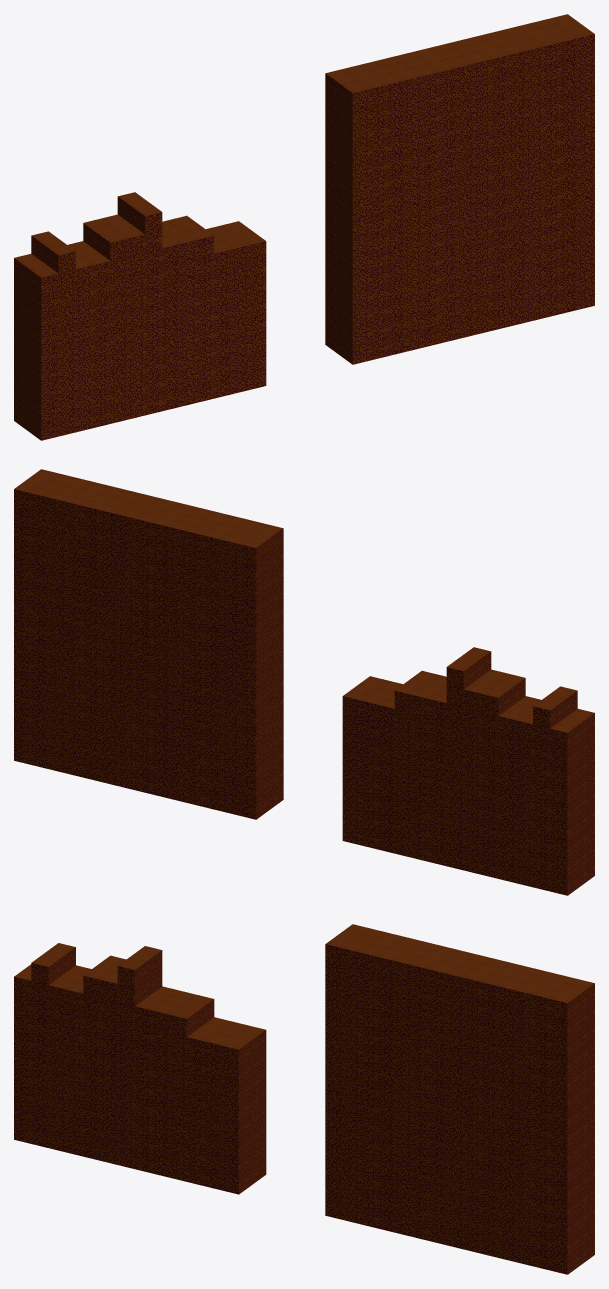
File: EndRoom9BasePiso-9b38fa1ee3ca.glb
The picture shows the model from 3 angles, top to bottom: view 1: azimuth 30°, elevation 25°; view 2: azimuth 150°, elevation 25°; view 3: azimuth 330°, elevation 25°; orthographic projection.
Visible parts, largest first — view 1: Setor_0; view 2: Setor_0; view 3: Setor_0, Setor_1.
Boxes of the visible parts, bbox=[...] form: Setor_0: bbox=[14, 14, 594, 440]; Setor_0: bbox=[14, 469, 594, 895]; Setor_0: bbox=[14, 924, 594, 1274]; Setor_1: bbox=[567, 983, 594, 1274].
Size of the model in its own units: 33.28 by 15.6 by 2.84.
Materials: 1 (1 with a texture image).
